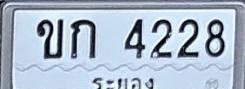2: (150, 18, 172, 58), (177, 18, 199, 58)
4: (124, 18, 145, 58)
8: (204, 18, 224, 57)
A01: (70, 18, 96, 58)
A02: (36, 18, 63, 59)
RYG: (89, 75, 158, 89)
